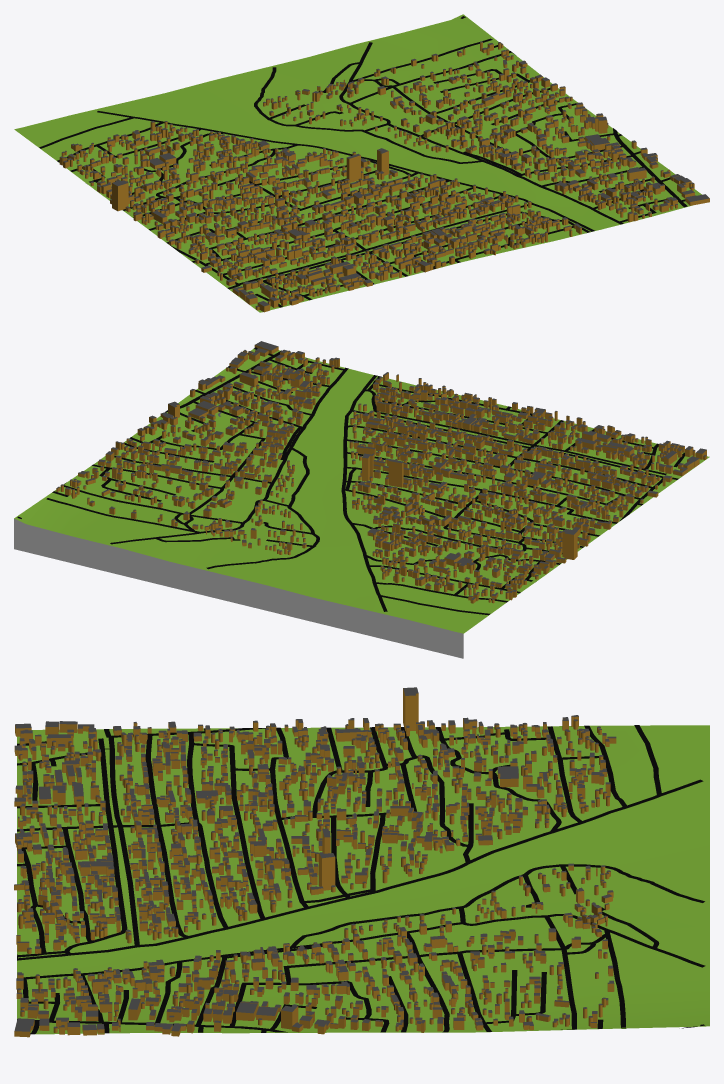
Rendered from tile_06_07.glb.
3 views of the same model, one above another, from view 1: azimuth 30°, elevation 25°; view 2: azimuth 150°, elevation 25°; view 3: azimuth 270°, elevation 25° (orthographic). The views are drawn at different scales.
Parts seen in each view (by area): view 1: Terrain_06_07, Ub_small.osm_buildings_06_07, Ub_small.osm_roads_residential_06_07; view 2: Terrain_06_07, Ub_small.osm_buildings_06_07, Ub_small.osm_roads_residential_06_07; view 3: Terrain_06_07, Ub_small.osm_buildings_06_07, Ub_small.osm_roads_residential_06_07.
Part boxes in pixels (bbox=[...]): Terrain_06_07: bbox=[14, 14, 701, 312]; Ub_small.osm_buildings_06_07: bbox=[59, 41, 709, 312]; Ub_small.osm_roads_residential_06_07: bbox=[39, 38, 685, 307]; Terrain_06_07: bbox=[14, 348, 709, 658]; Ub_small.osm_buildings_06_07: bbox=[56, 341, 706, 603]; Ub_small.osm_roads_residential_06_07: bbox=[46, 347, 684, 615]; Terrain_06_07: bbox=[17, 725, 709, 1034]; Ub_small.osm_buildings_06_07: bbox=[14, 687, 616, 1037]; Ub_small.osm_roads_residential_06_07: bbox=[17, 725, 705, 1034].
Size of the model in its own units: 999 by 102 by 931.
